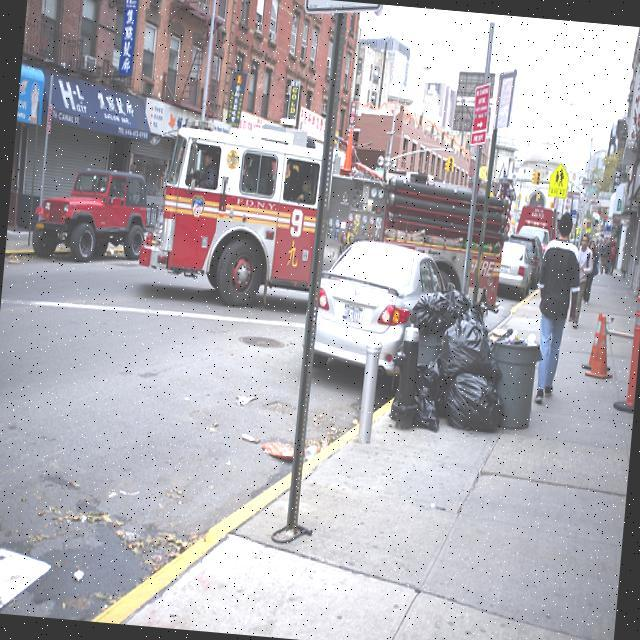fire_hydrant: (391, 322, 425, 431)
